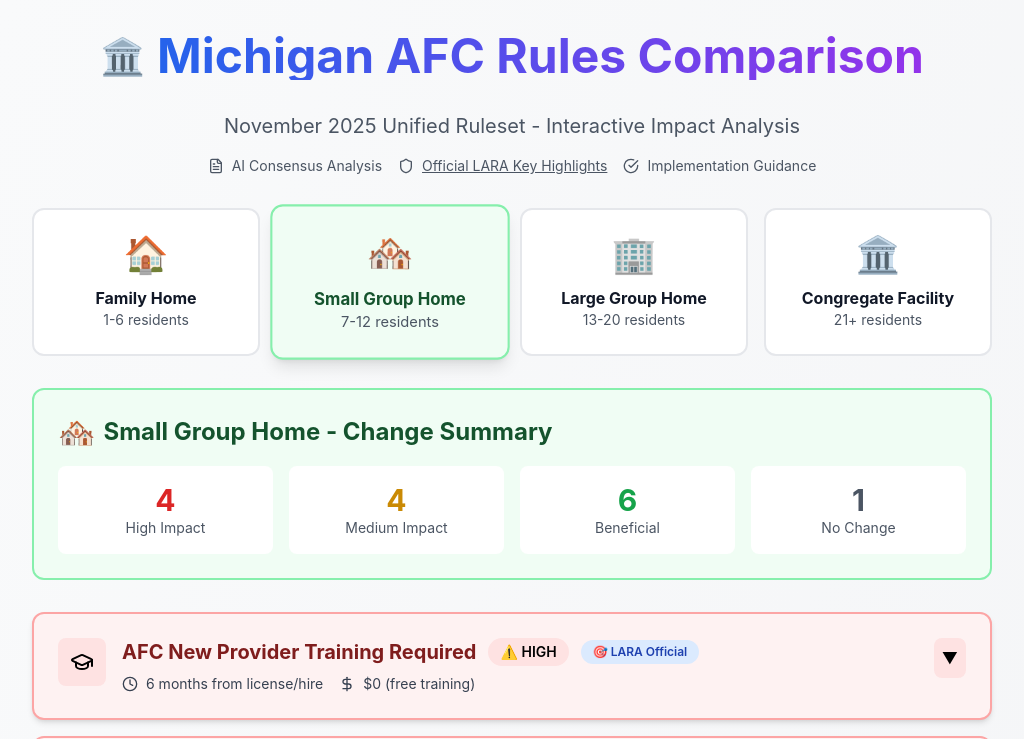
it: AFCRulesInfographic › Facility Type Selection › switches to Family Home when clicked
Click the text "Family Home" at (146, 298), box [95, 288, 197, 308]
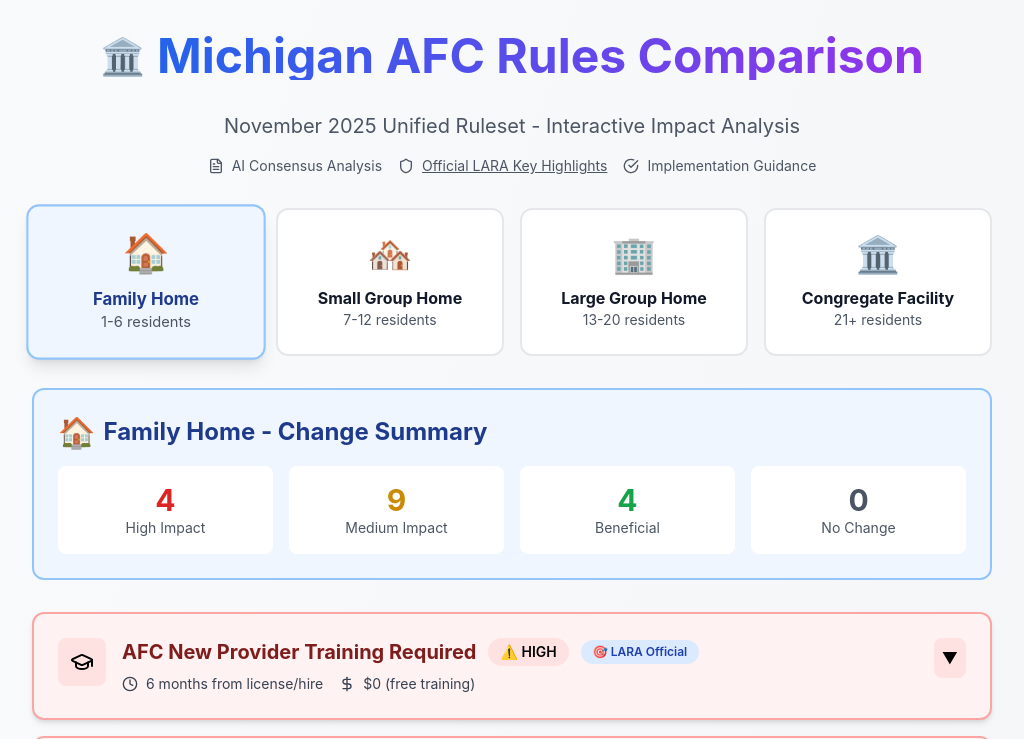
expect the heading "🏠 Family Home - Change Summary" is shown: met, box [58, 414, 488, 450]
